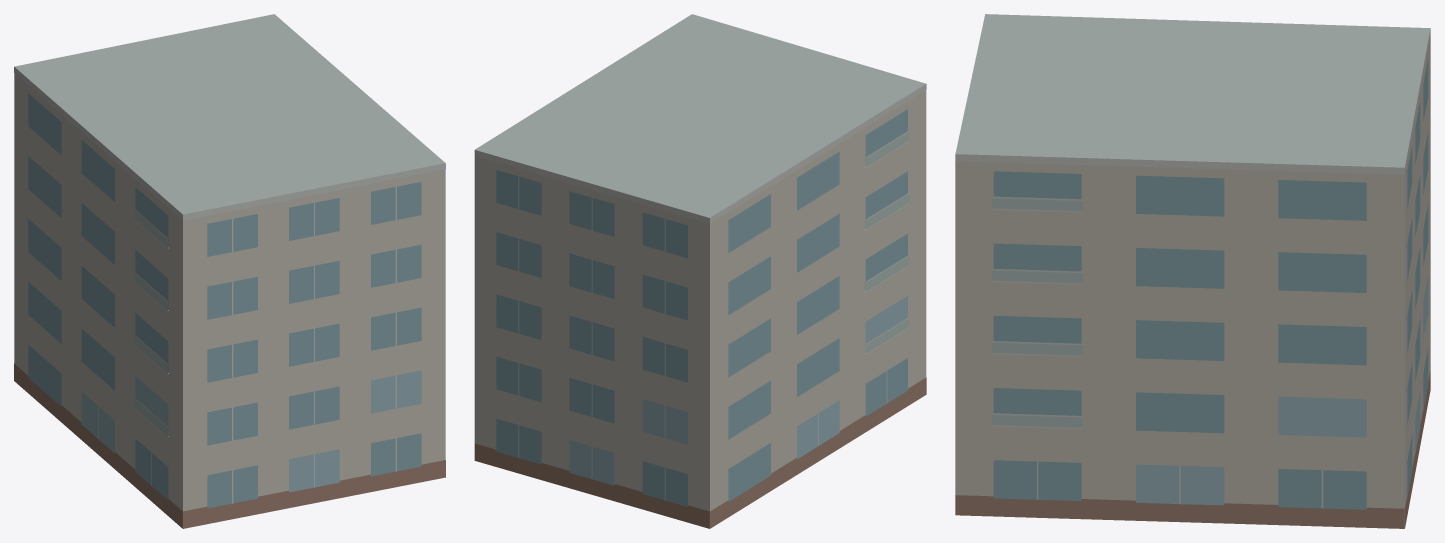
The model's file is survey-upis-33020844.glb.
3 views of the same model, side by side, from view 1: azimuth 30°, elevation 25°; view 2: azimuth 150°, elevation 25°; view 3: azimuth 270°, elevation 25° (orthographic). The views are drawn at different scales.
Visible parts, largest first — view 1: survey-upis-33020844.tmp; view 2: survey-upis-33020844.tmp; view 3: survey-upis-33020844.tmp.
Part boxes in pixels (x1,y1,x2,y2): survey-upis-33020844.tmp: (14,14,445,528); survey-upis-33020844.tmp: (474,14,926,528); survey-upis-33020844.tmp: (955,14,1430,528).
Size of the model in its own units: 11.47 by 12.55 by 14.98.
